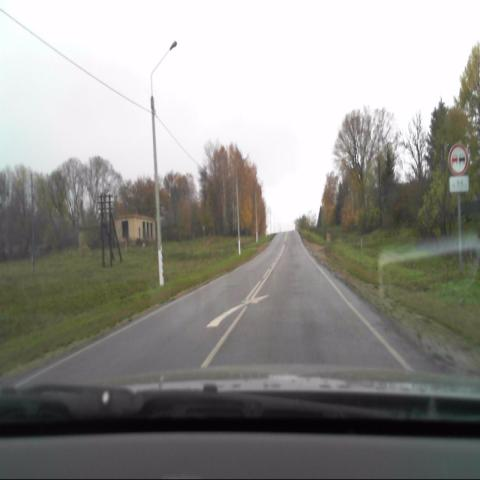3_20: (448, 143, 468, 176)
